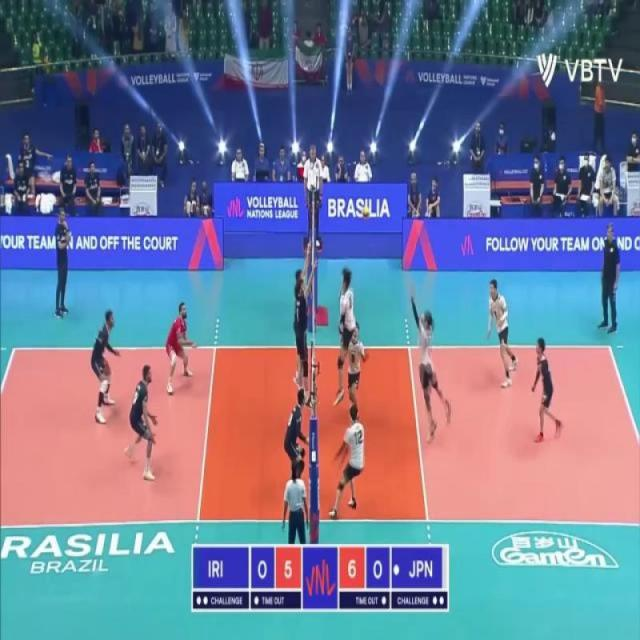volleyball: (362, 204, 371, 221)
